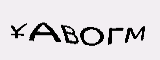А: (28, 18, 61, 42)
В: (58, 20, 81, 44)
Г: (105, 25, 123, 45)
М: (123, 22, 150, 45)
О: (79, 25, 104, 48)
Ұ: (9, 21, 27, 40)
